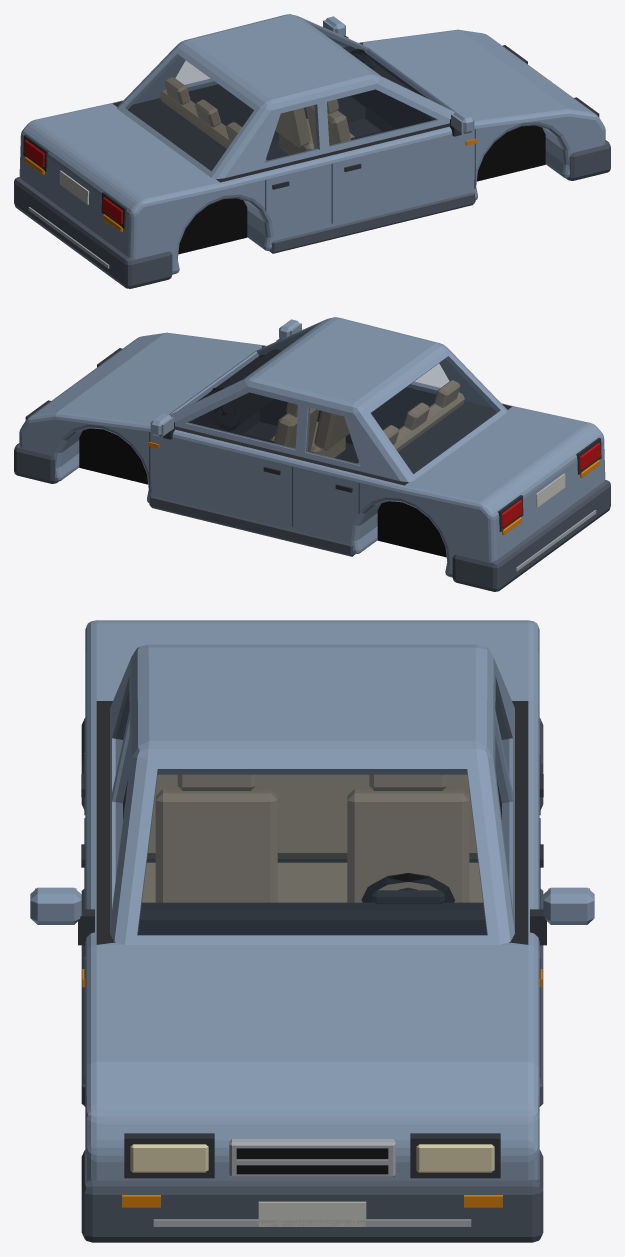
File: comfort.glb
3 views of the same model, one above another, from view 1: azimuth 30°, elevation 25°; view 2: azimuth 150°, elevation 25°; view 3: azimuth 270°, elevation 25° (orthographic). The views are drawn at different scales.
Parts seen in each view (by area): view 1: Body, Glass, Interior, Details, TailLights; view 2: Body, Glass, Interior, Details, TailLights; view 3: Body, Glass, Interior, Details, HeadLights.
Part boxes in pixels (box(x1,y1,x2,y2)): Body: box(14, 14, 610, 288); Glass: box(126, 25, 444, 170); Interior: box(160, 46, 436, 160); Details: box(323, 16, 474, 136); TailLights: box(24, 140, 122, 224); Body: box(14, 317, 610, 591); Glass: box(180, 328, 498, 473); Interior: box(188, 349, 464, 463); Details: box(150, 319, 301, 439); TailLights: box(502, 443, 600, 527); Body: box(81, 620, 543, 1242); Glass: box(116, 691, 508, 934); Interior: box(138, 774, 486, 935); Details: box(30, 887, 594, 945); HeadLights: box(130, 1144, 494, 1172).
Size of the model in its own units: 4.62 by 1.28 by 2.31.
